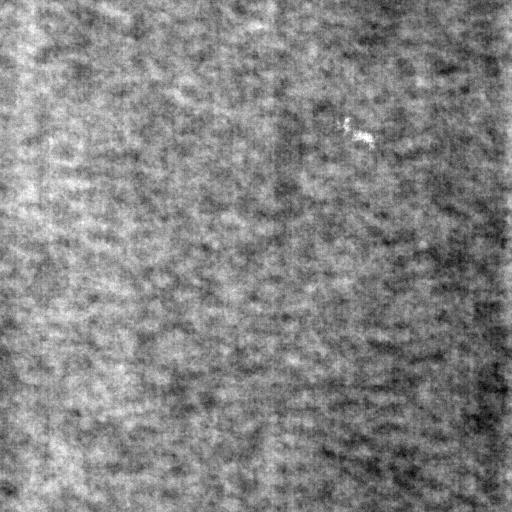DefectTypeA: (333, 115, 384, 152)
